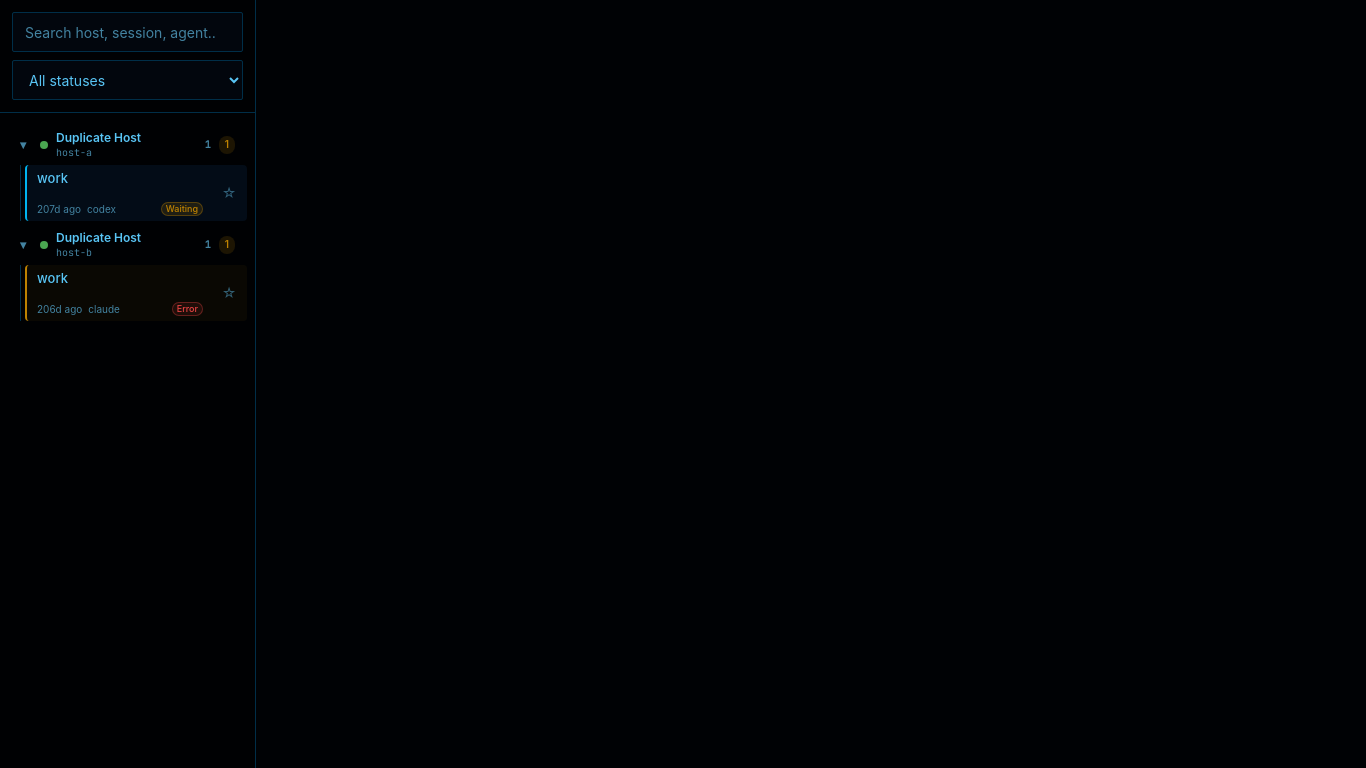
Test: state-driven Sidebar › supports text/status filters and Pin actions
The width and height of the screenshot is (1366, 768).
Type "codex" into the search field named "Search sessions" at (128, 32), box top-left (12, 12), bottom-right (243, 52)
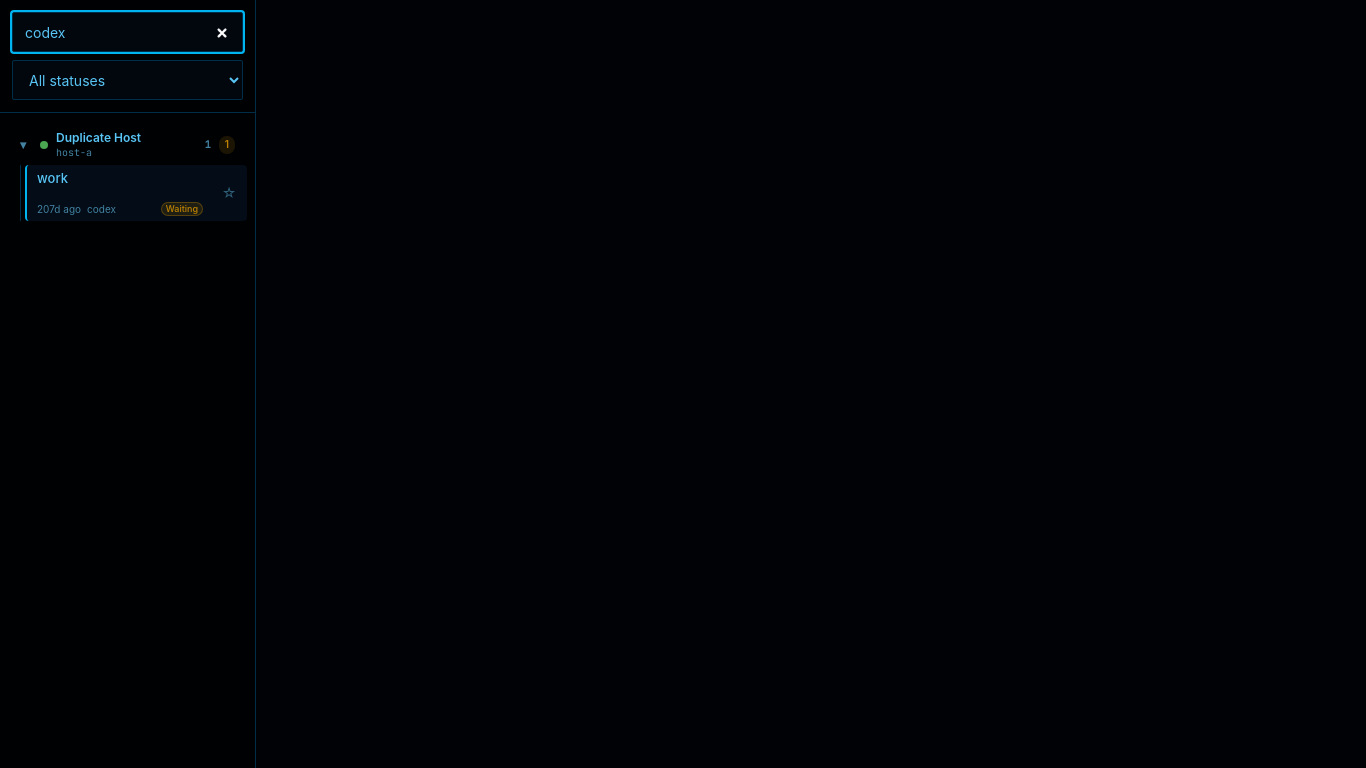
Result: the number of buttons named "Open Duplicate Host session work" is 1 at top-left (27, 165), bottom-right (213, 221)
Click the button named "Pin Duplicate Host session work" at (229, 193), box top-left (213, 175), bottom-right (245, 211)
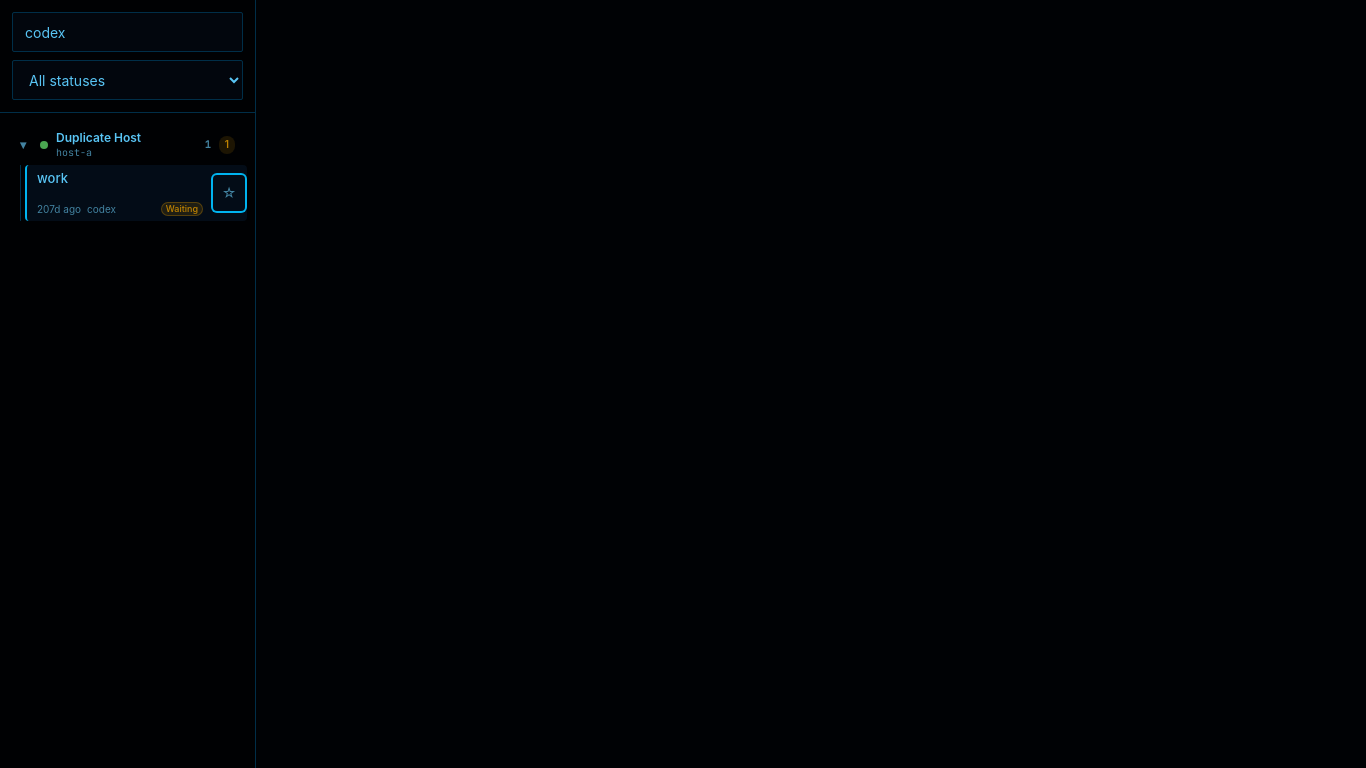
Clear the search field named "Search sessions" at (128, 32), box top-left (12, 12), bottom-right (243, 52)
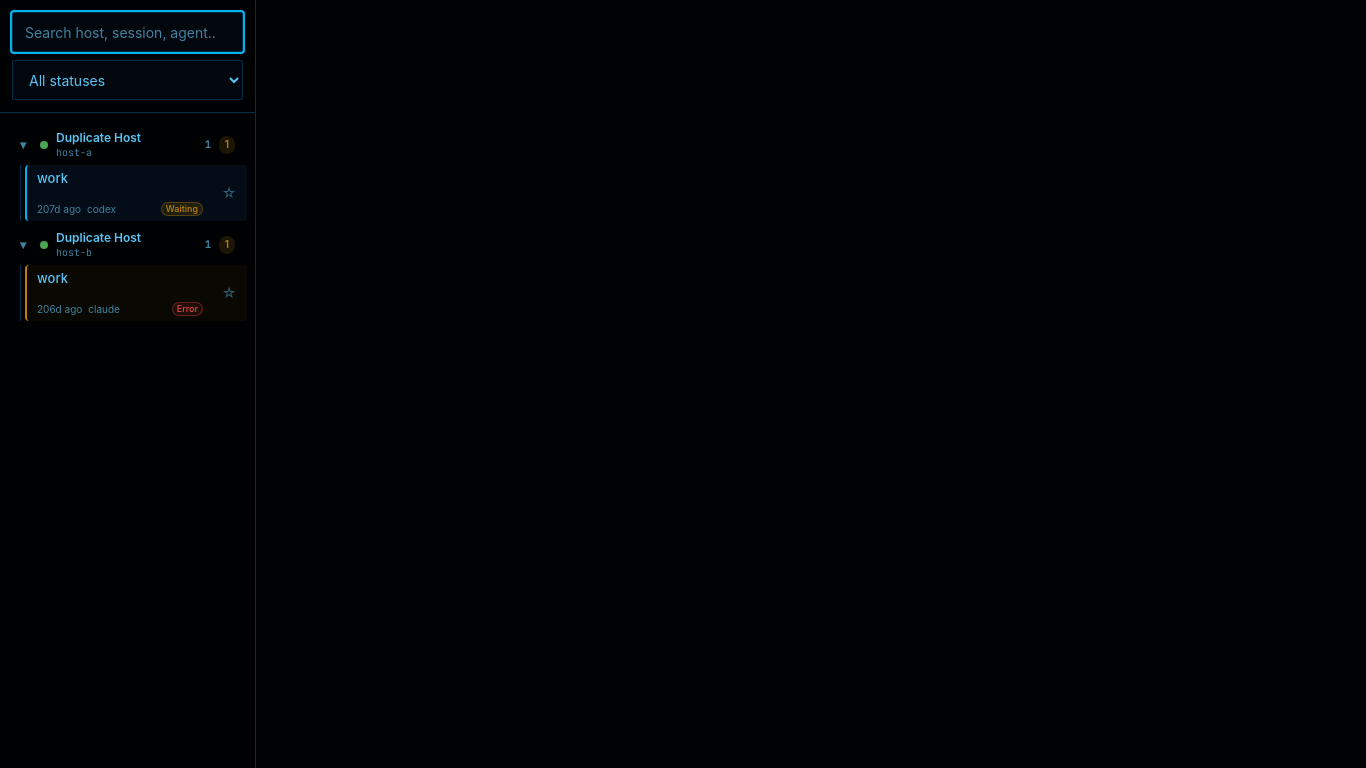
Select "Error" in the dropdown named "Filter sessions by status" at (128, 80), box top-left (12, 60), bottom-right (243, 100)
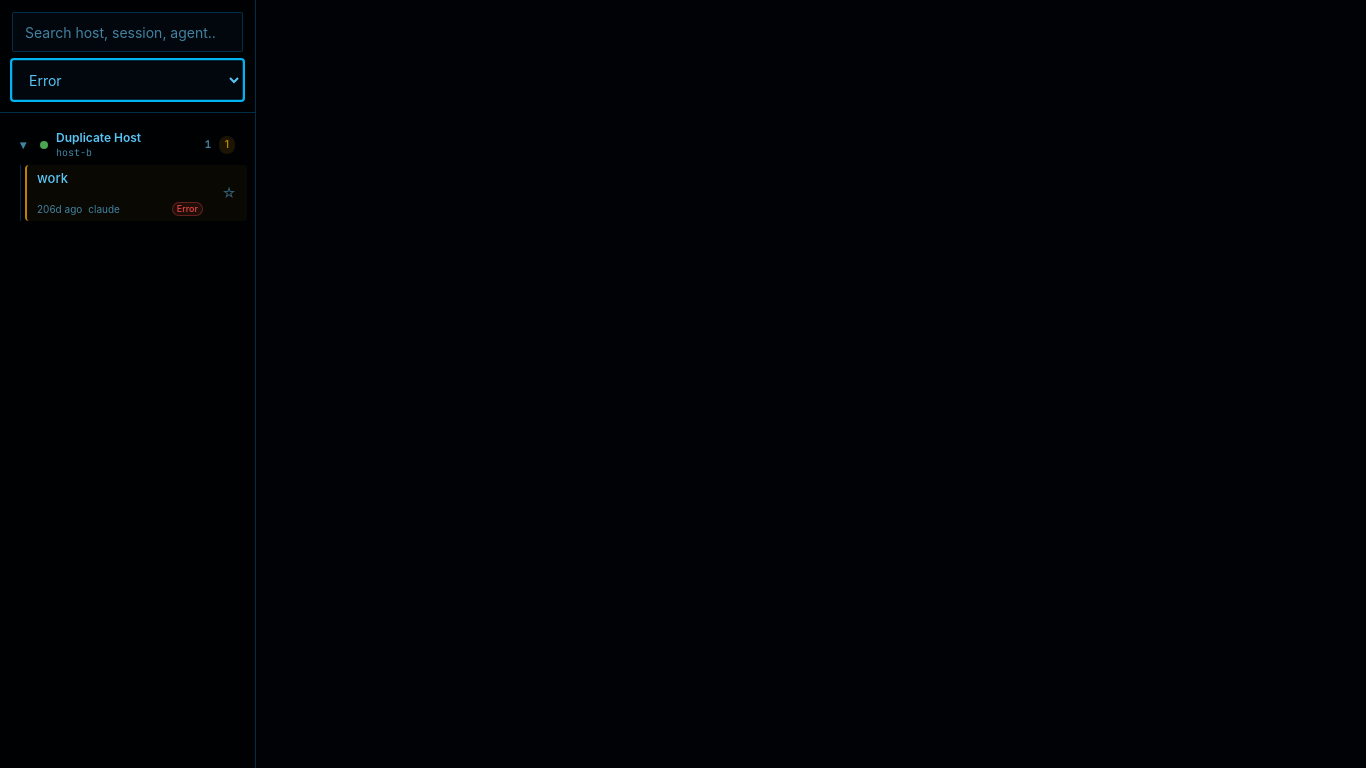
Result: the text "claude" is shown at top-left (88, 203), bottom-right (120, 215)
Result: the number of buttons named "Open Duplicate Host session work" is 1 at top-left (27, 165), bottom-right (213, 221)
